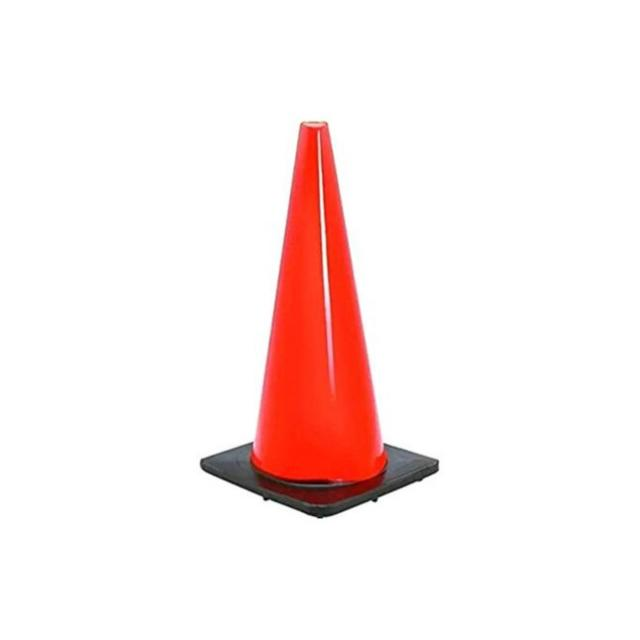traffic cone: (188, 116, 450, 523)
